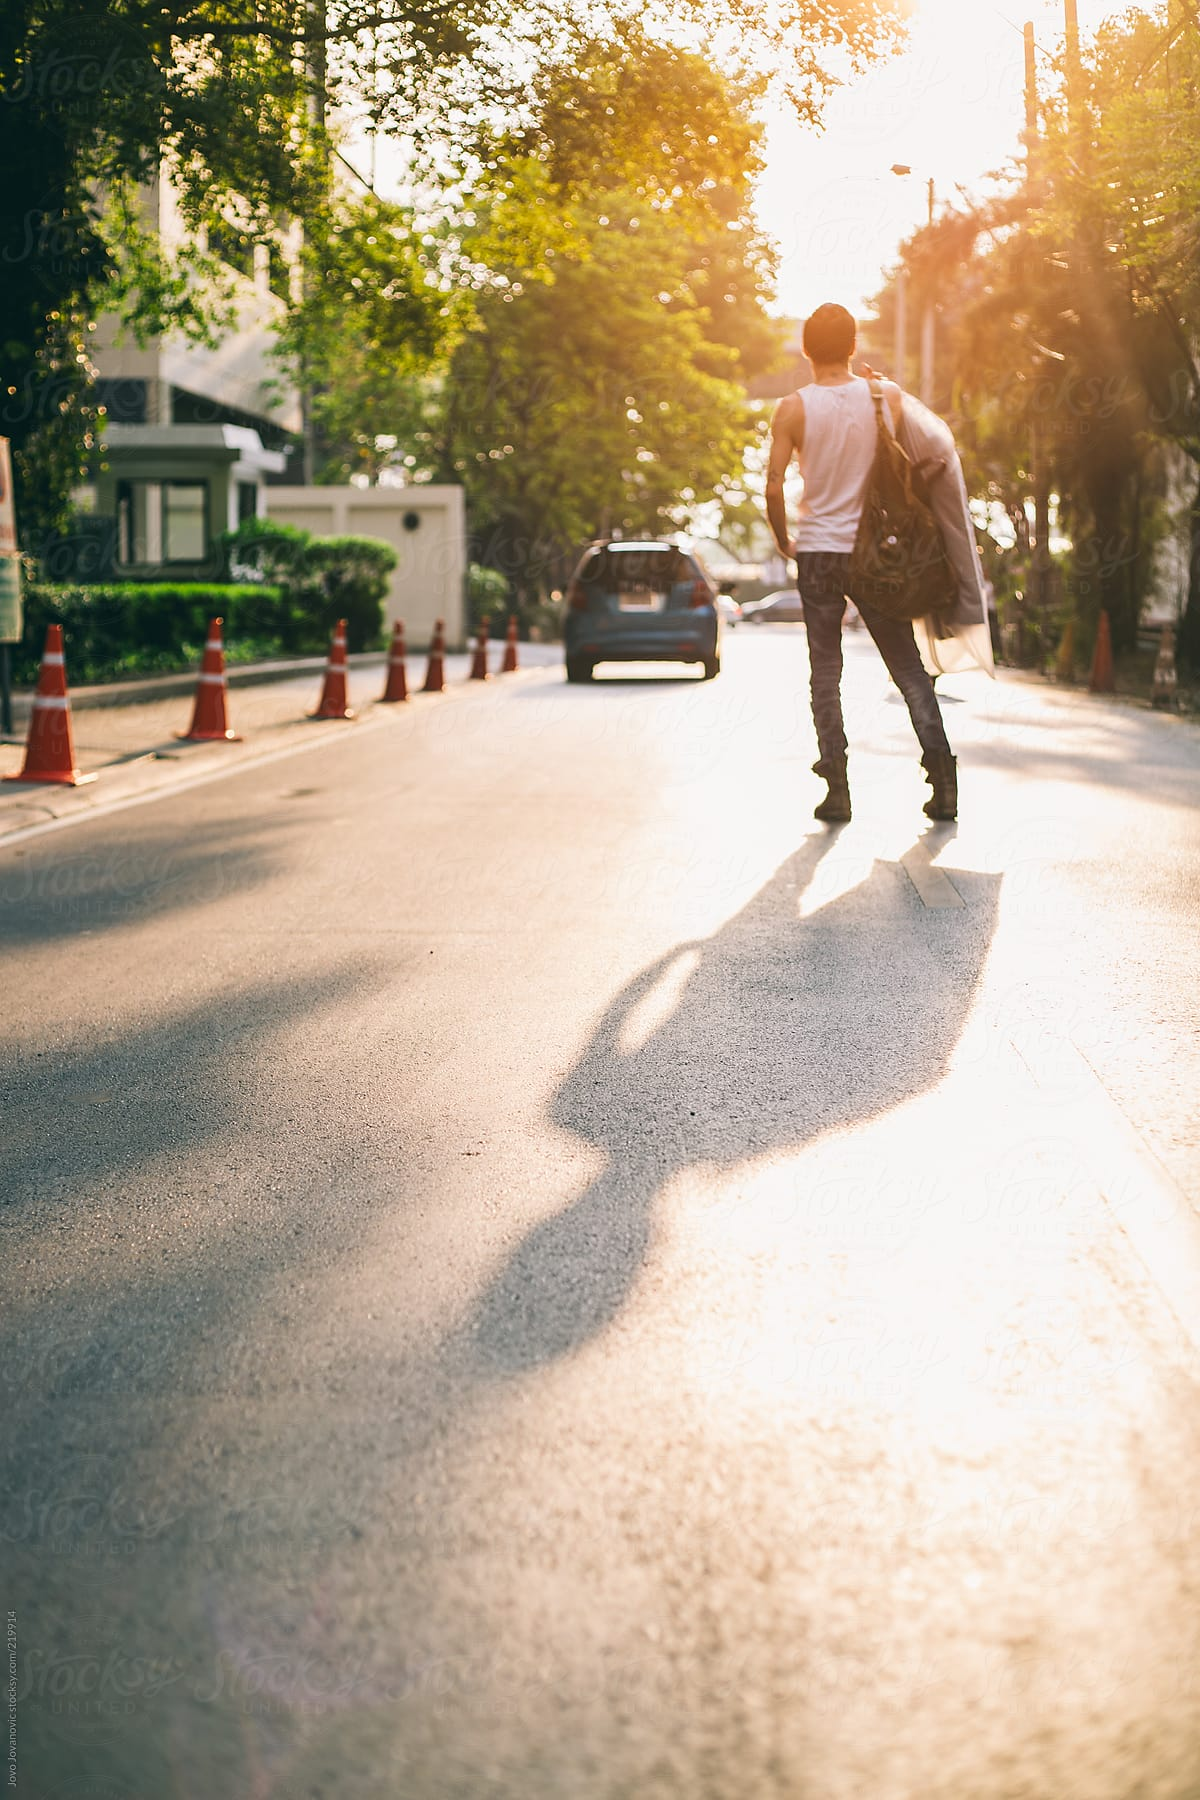car: (551, 519, 729, 692)
person: (751, 287, 992, 834)
